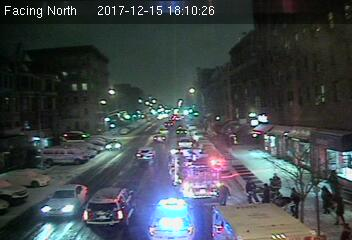car: (85, 185, 137, 227), (39, 183, 89, 219), (137, 147, 156, 164), (104, 140, 123, 151), (152, 134, 167, 144)
pedestrian: (245, 178, 259, 204), (261, 182, 274, 206)
police: (147, 196, 198, 240)
truck: (211, 203, 315, 240), (166, 147, 229, 200)
